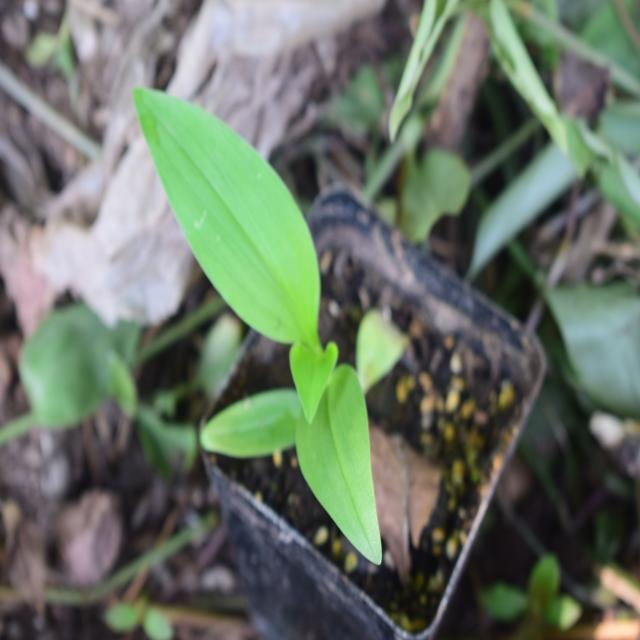Common Dayflower: (138, 86, 385, 580)
